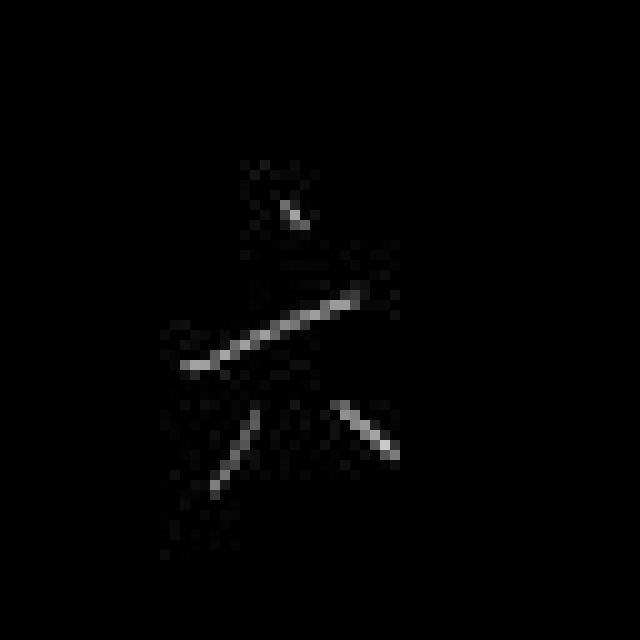6 -six-: (165, 182, 412, 502)
